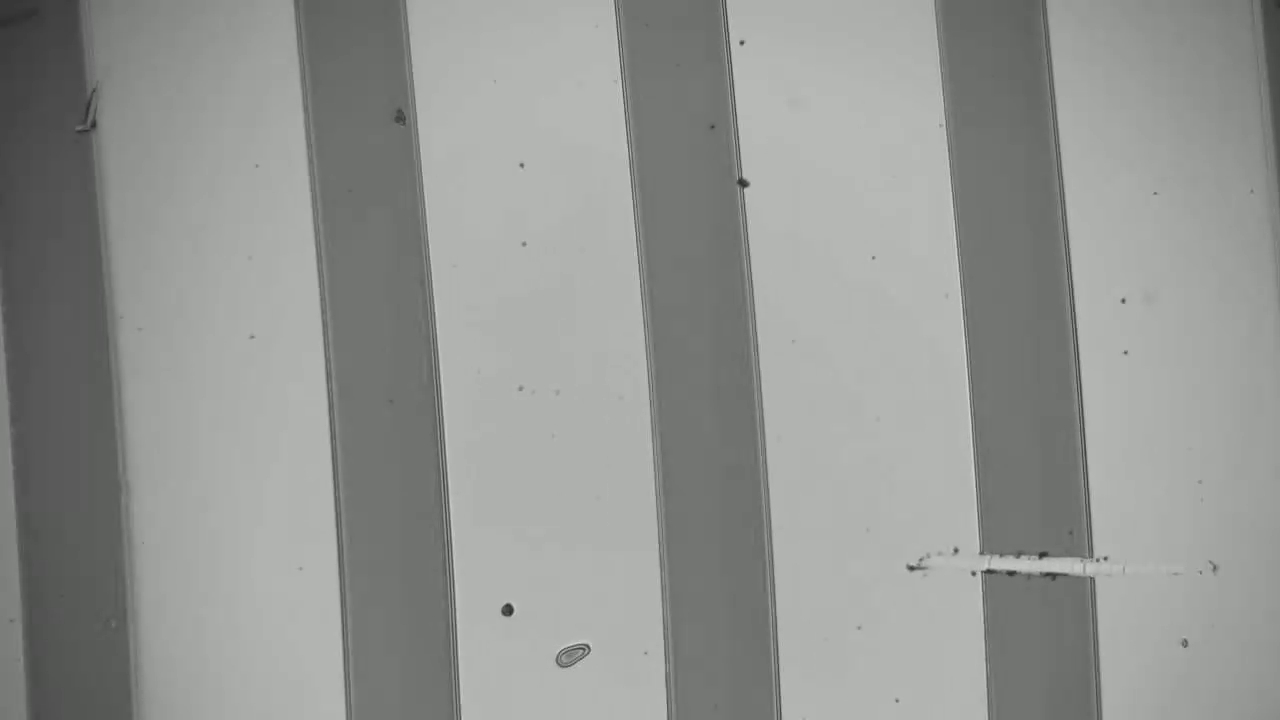Short_circuit: (962, 518, 1129, 610)
